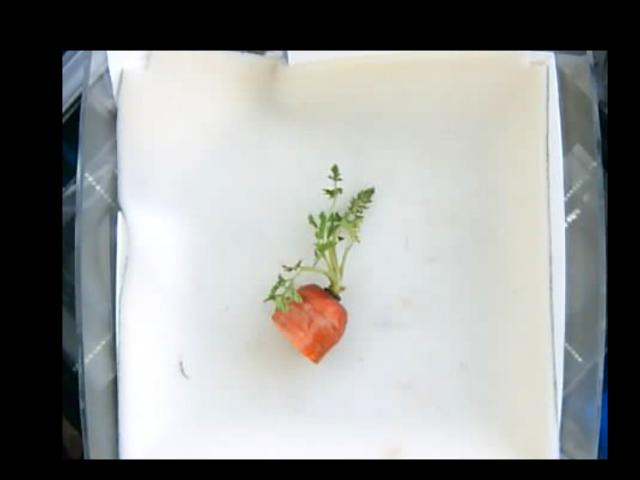Carrot: (261, 162, 375, 363)
